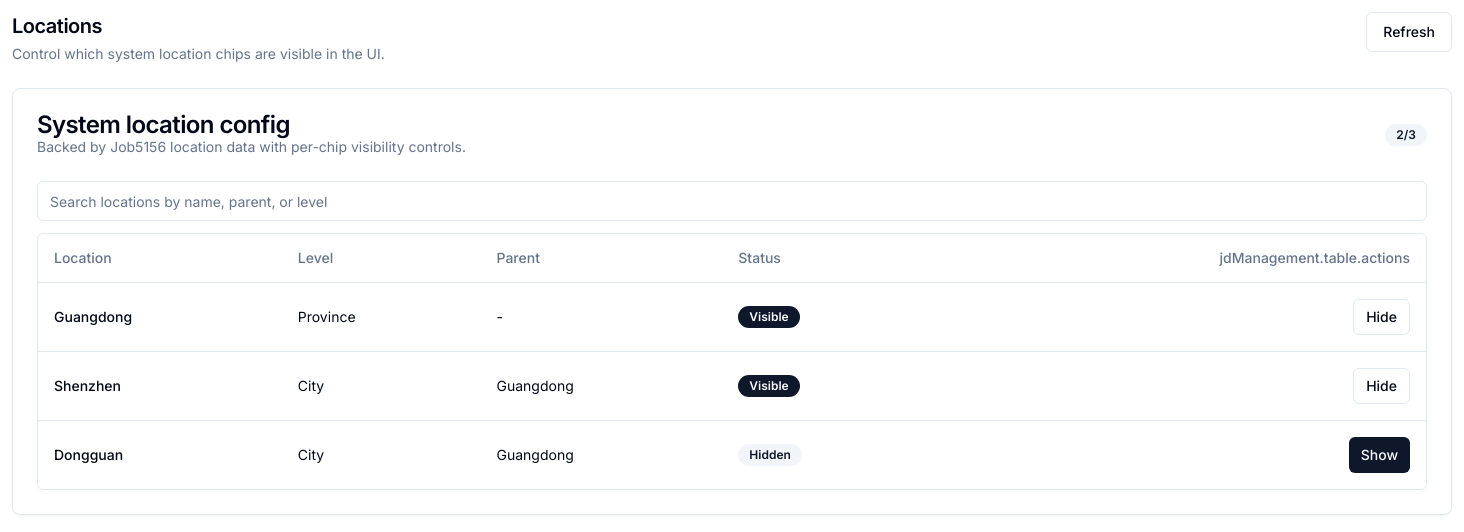
Test: SystemSettingsLocationsPage › filters locations by search query
Expected: the text "Guangdong" is shown 3 times, [38,282,282,351]; [480,351,722,420]; [480,420,722,488]
Step 1. Type "Shenzhen" into the field with placeholder "Search locations by name, parent, or level" → coordinates (732, 201), box [37,181,1427,221]
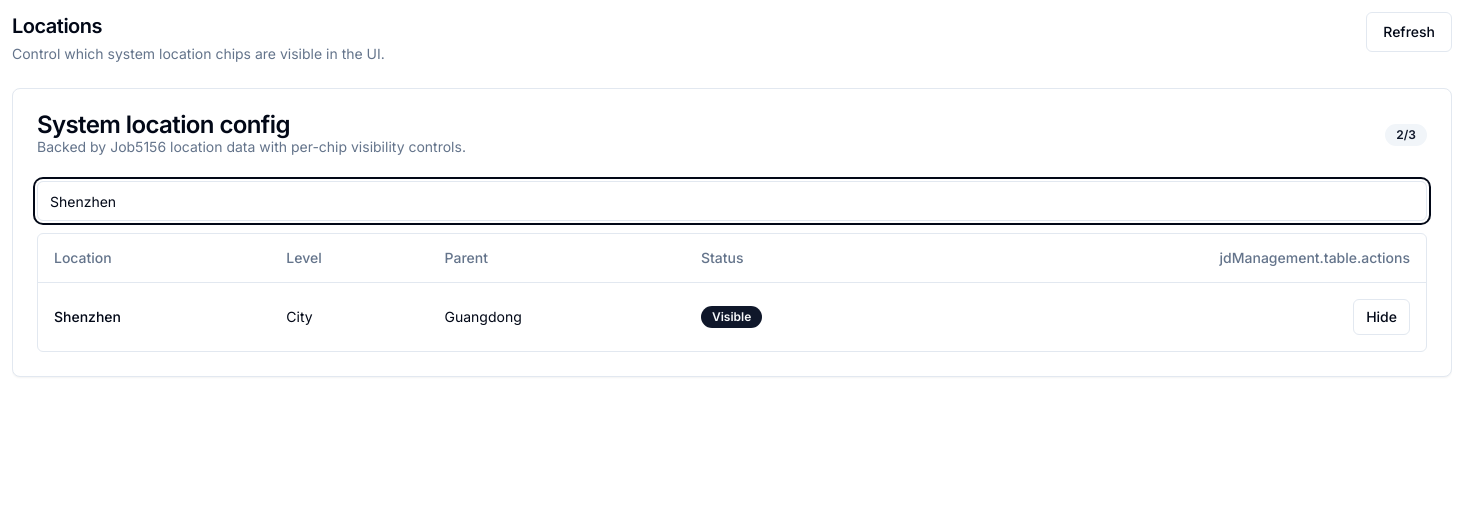
Expected: the text "Shenzhen" is shown, [38,282,270,350]
Now the text "Dongguan" is gone
